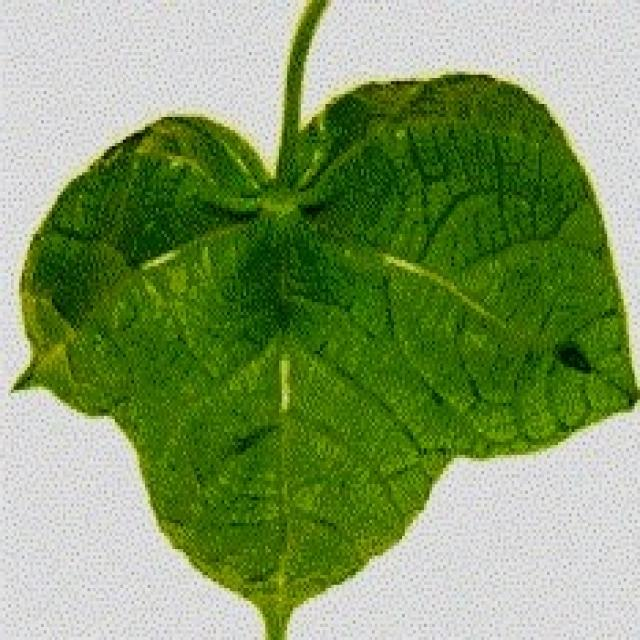Leaf Curl Virus: (102, 158, 545, 435)
